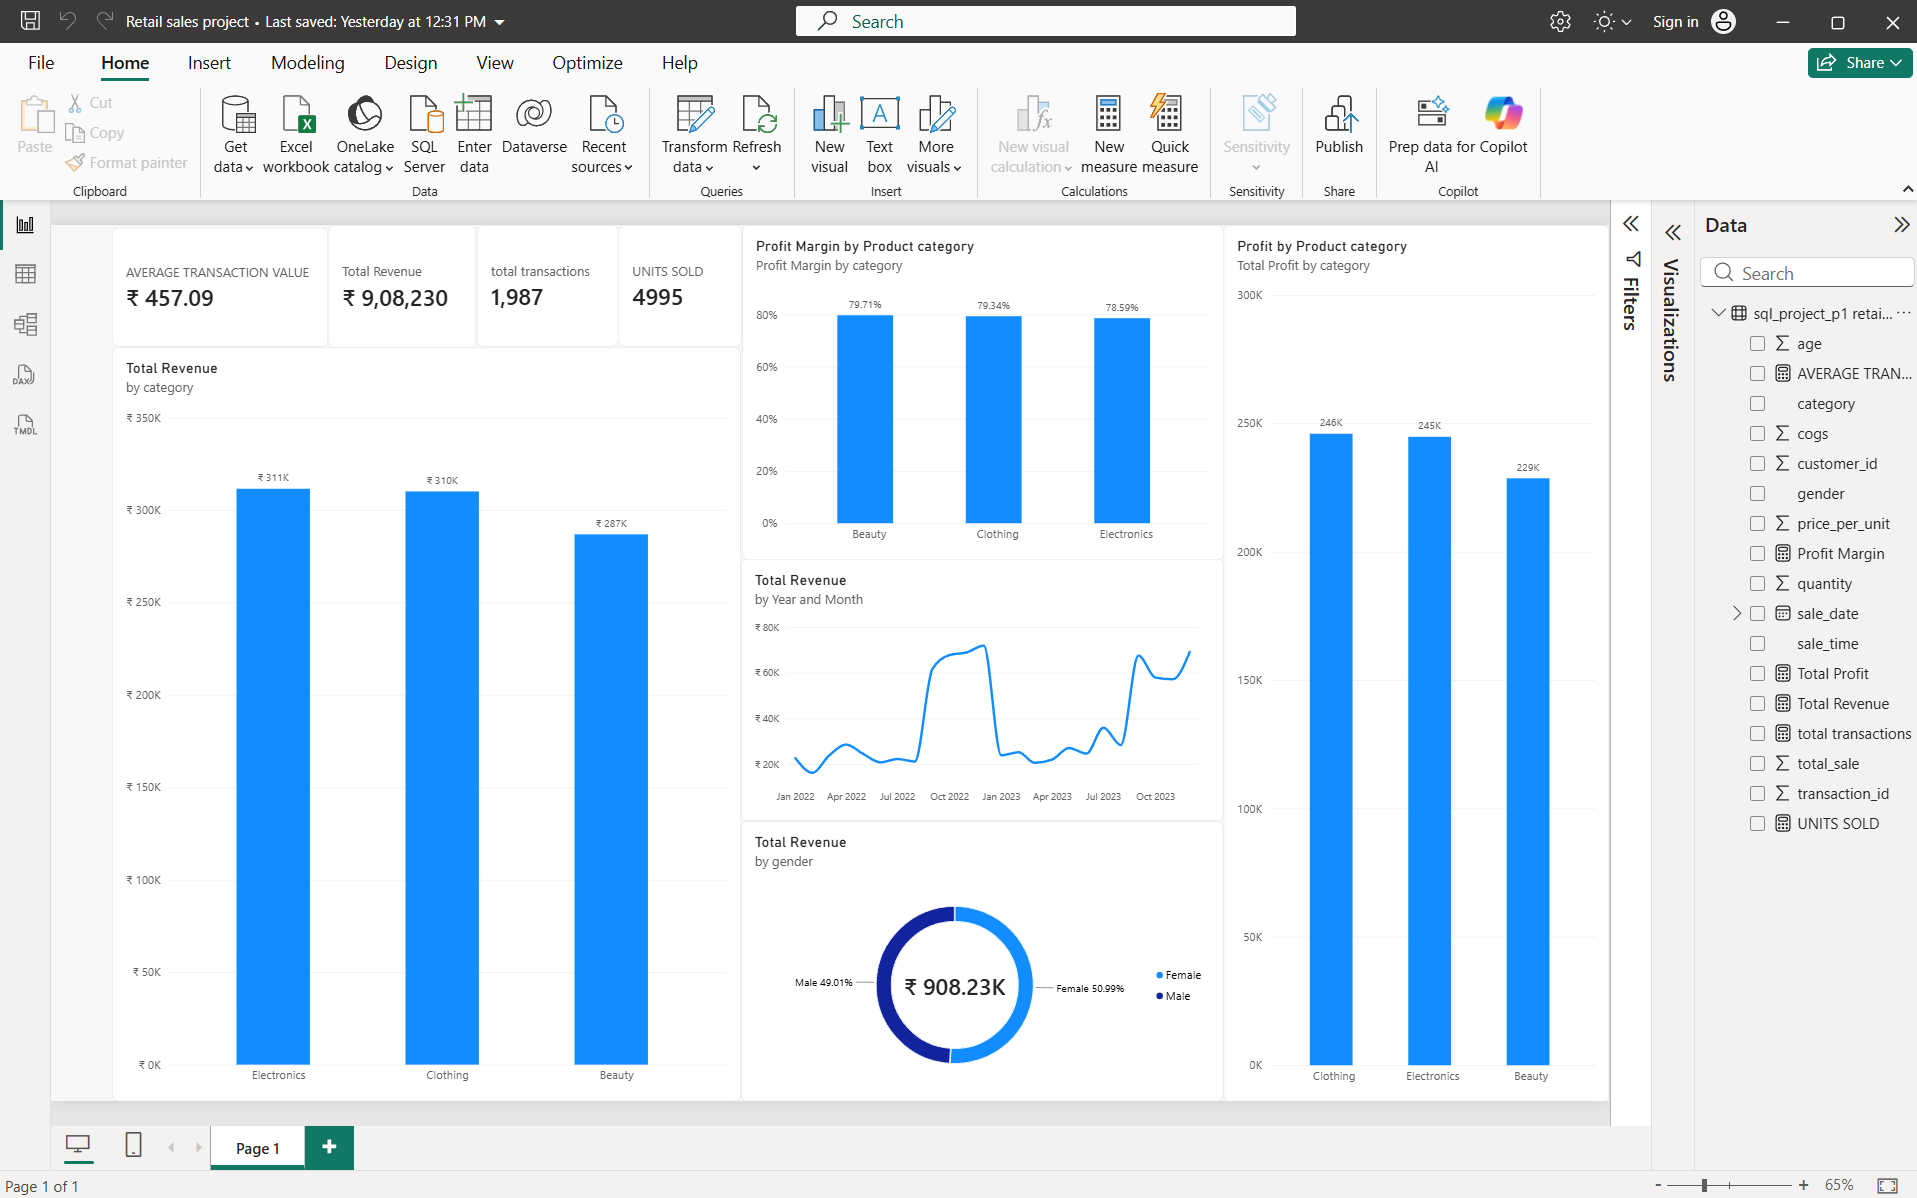

The dashboard page shown, as its layout file describes it:
{"tool":"powerbi","page":{"name":"Page 1","canvas":[1920,1080],"ordinal":0},"visuals":[{"type":"cardVisual","fields":{"Data":["sql_project_p1 retail_sales.AVERAGE TRANSACTION VALUE"]},"box":[75.8,2.9,266.1,147.3],"z":0},{"type":"cardVisual","fields":{"Data":["sql_project_p1 retail_sales.Total Revenue"]},"box":[342.6,0,182.2,152.1],"z":1000},{"type":"cardVisual","fields":{"Data":["sql_project_p1 retail_sales.total transactions"]},"box":[524.8,0,174.3,150.5],"z":2000},{"type":"cardVisual","fields":{"Data":["sql_project_p1 retail_sales.UNITS SOLD"]},"box":[699.8,0,152.1,150.5],"z":3000},{"type":"columnChart","fields":{"Category":["sql_project_p1 retail_sales.category"],"Y":["sql_project_p1 retail_sales.Total Revenue"]},"box":[75.8,151.6,774.1,928.7],"z":4000},{"type":"lineChart","fields":{"Category":["sql_project_p1 retail_sales.sale_date.Variation.Date Hierarchy.Year","sql_project_p1 retail_sales.sale_date.Variation.Date Hierarchy.Month"],"Y":["sql_project_p1 retail_sales.Total Revenue"]},"box":[850.7,411.9,594.1,323.2],"z":5000},{"type":"donutChart","fields":{"Category":["sql_project_p1 retail_sales.gender"],"Y":["sql_project_p1 retail_sales.Total Revenue"]},"box":[850.7,735,594.1,345.3],"z":6000},{"type":"clusteredColumnChart","title":"Profit by Product category","fields":{"Category":["sql_project_p1 retail_sales.category"],"Y":["sql_project_p1 retail_sales.Total Profit"]},"box":[1444.8,0,475.3,1080.3],"z":6001},{"type":"clusteredColumnChart","title":"Profit Margin by Product category","fields":{"Category":["sql_project_p1 retail_sales.category"],"Y":["sql_project_p1 retail_sales.Profit Margin"]},"box":[851.4,0,593.4,412.6],"z":6002}]}

Visuals, with their boxes on the page's 1920x1080 design canvas (x1, y1, x2, y2). These are canvas units, not pixel positions in the 1917x1198 screenshot, which may show the page scaled, cropped or inside an application window:
cardVisual - sql_project_p1 retail_sales.AVERAGE TRANSACTION VALUE: (x1=76, y1=3, x2=342, y2=150)
cardVisual - sql_project_p1 retail_sales.Total Revenue: (x1=343, y1=0, x2=525, y2=152)
cardVisual - sql_project_p1 retail_sales.total transactions: (x1=525, y1=0, x2=699, y2=150)
cardVisual - sql_project_p1 retail_sales.UNITS SOLD: (x1=700, y1=0, x2=852, y2=150)
columnChart - sql_project_p1 retail_sales.category x sql_project_p1 retail_sales.Total Revenue: (x1=76, y1=152, x2=850, y2=1080)
lineChart - sql_project_p1 retail_sales.sale_date.Variation.Date Hierarchy.Year x sql_project_p1 retail_sales.sale_date.Variation.Date Hierarchy.Month: (x1=851, y1=412, x2=1445, y2=735)
donutChart - sql_project_p1 retail_sales.gender x sql_project_p1 retail_sales.Total Revenue: (x1=851, y1=735, x2=1445, y2=1080)
"Profit by Product category" clusteredColumnChart: (x1=1445, y1=0, x2=1920, y2=1080)
"Profit Margin by Product category" clusteredColumnChart: (x1=851, y1=0, x2=1445, y2=413)
